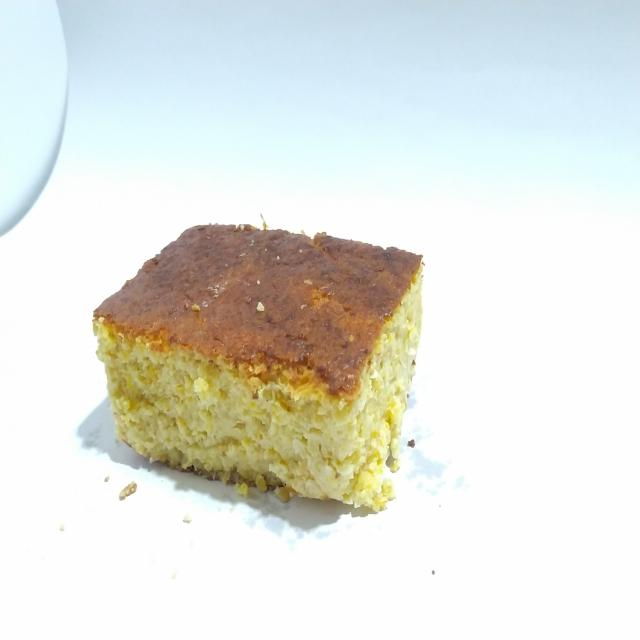Chipa_Guazu: (85, 205, 437, 527)
